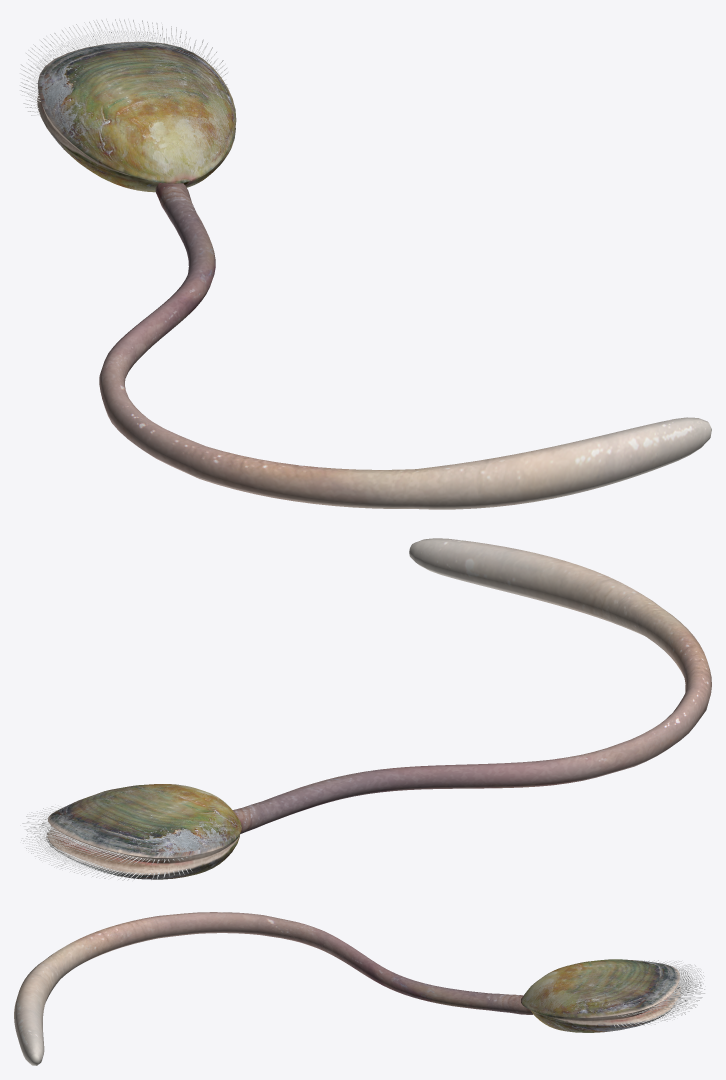
3 renders of one model, top to bottom at view 1: azimuth 30°, elevation 25°; view 2: azimuth 150°, elevation 25°; view 3: azimuth 270°, elevation 25°, orthographic. The views are drawn at different scales.
Parts seen in each view (by area): view 1: Object_2, Object_3; view 2: Object_2, Object_3; view 3: Object_2, Object_3.
Boxes of the visible parts, box(x1,y1,x2,y2) form: Object_2: box(37, 41, 711, 509); Object_3: box(20, 19, 228, 115); Object_2: box(46, 538, 711, 879); Object_3: box(21, 805, 192, 880); Object_2: box(14, 912, 680, 1065); Object_3: box(613, 960, 704, 1027).
Bounding box in the file's own units: 3.73 × 0.7284 × 7.75.
Materials: 2 (2 with a texture image).
